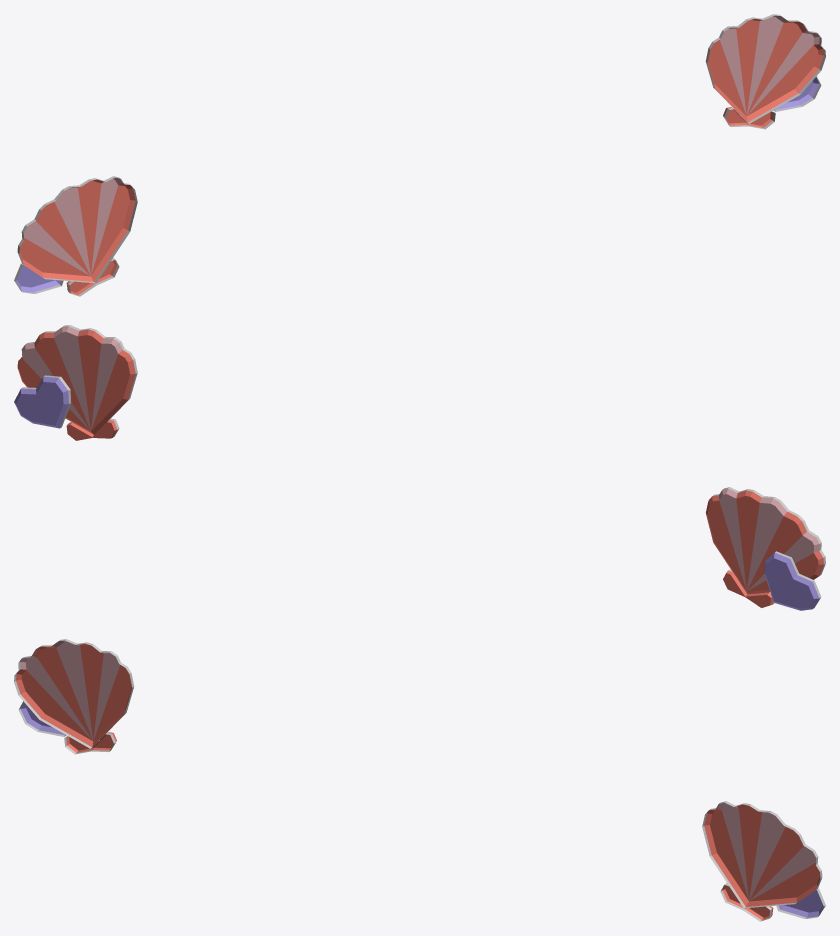
The model's file is SM_Ark_Beach_001.fbx.
The picture shows the model from 3 angles, top to bottom: view 1: azimuth 30°, elevation 25°; view 2: azimuth 150°, elevation 25°; view 3: azimuth 330°, elevation 25°; orthographic projection.
Parts seen in each view (by area): view 1: SM_Ark_Beach_001; view 2: SM_Ark_Beach_001; view 3: SM_Ark_Beach_001.
Boxes of the visible parts, x1,y1,x2,y2 form: SM_Ark_Beach_001: (14,14,825,296); SM_Ark_Beach_001: (14,325,825,610); SM_Ark_Beach_001: (14,639,825,921).
Bounding box in the file's own units: 149 × 19.99 × 2.54.
